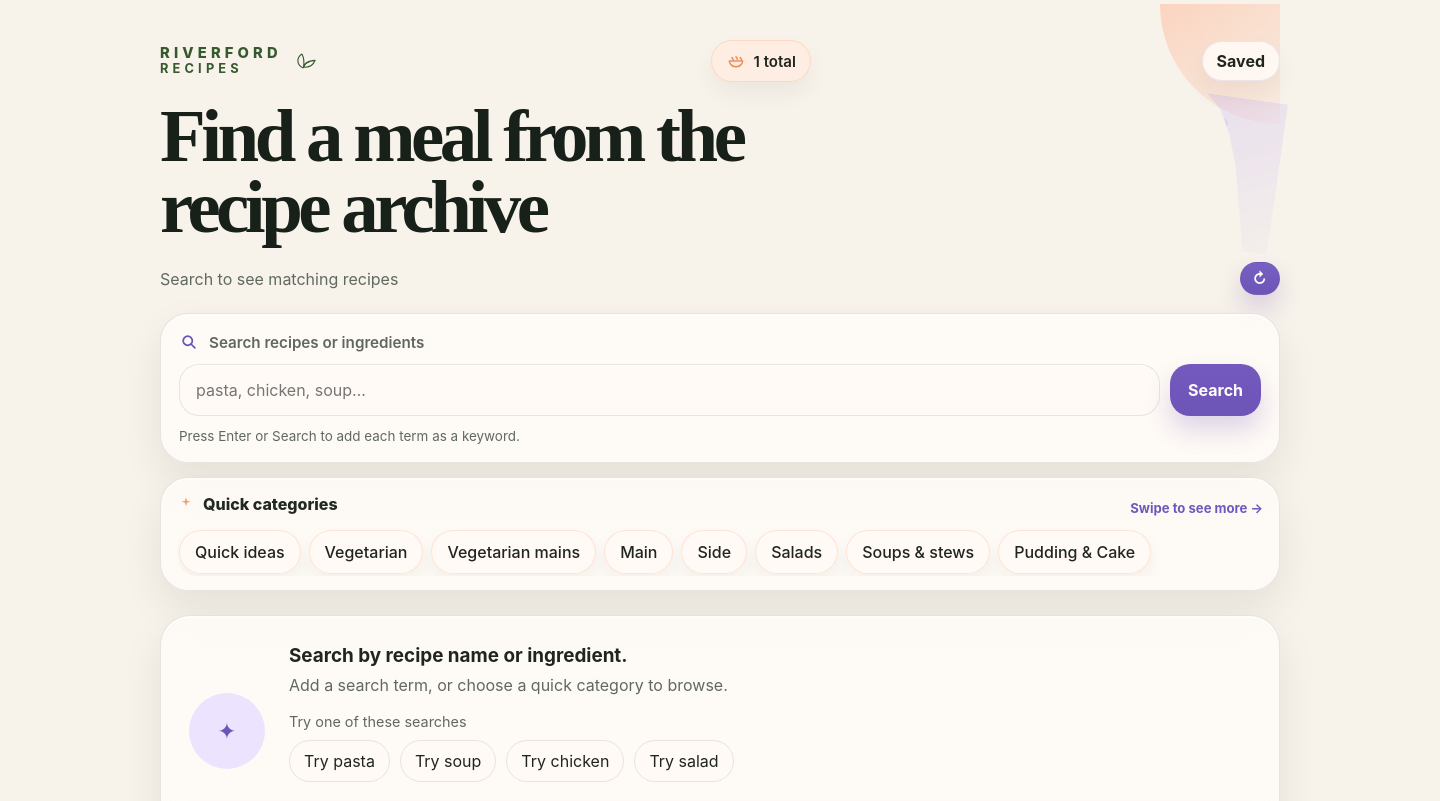
Scenario: App › shows starter search suggestions that begin a search
Expected: the text "1 total" is shown, [710,40,811,82]
Click the button "Try pasta": click(339, 762) [289,740,390,782]
(page scrolled)
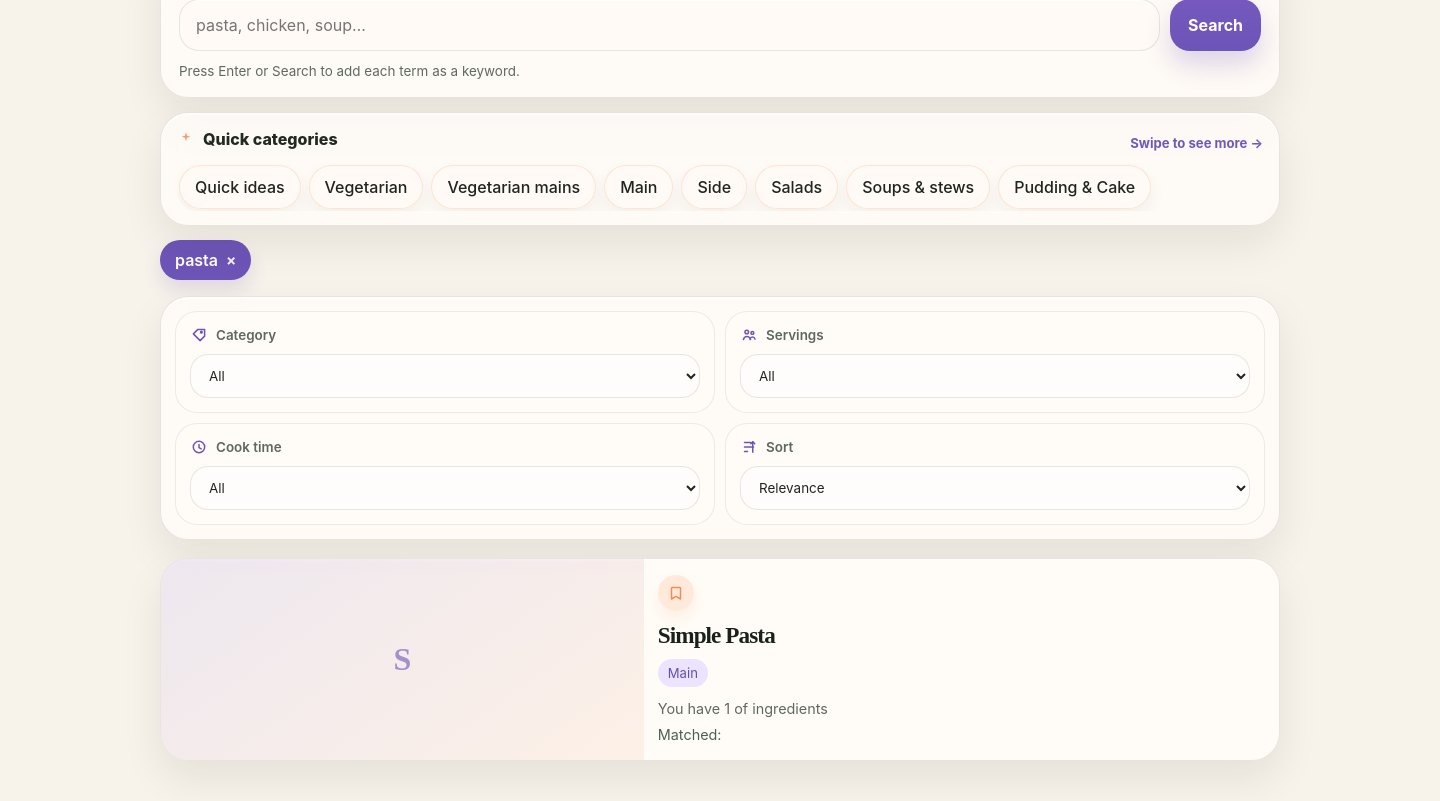
Expected: the button with aria-label "remove pasta" is shown, [160,240,251,280]
Expected: the link "Simple Pasta" is shown, [658,622,775,648]
